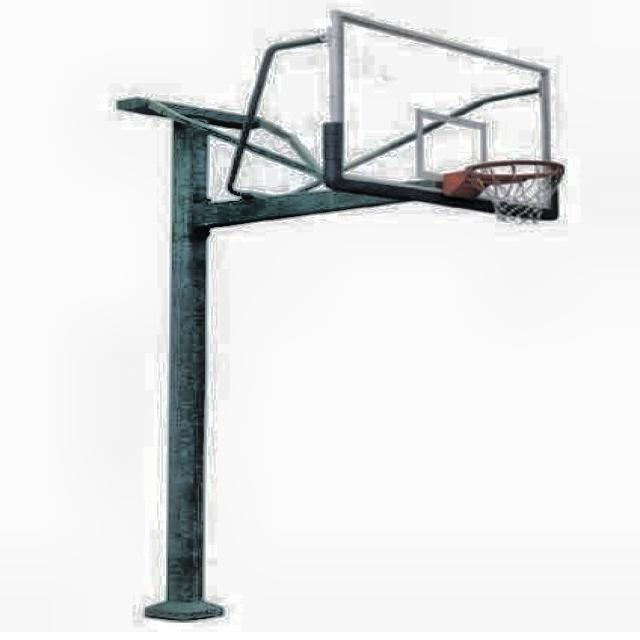rim: (469, 157, 566, 225)
